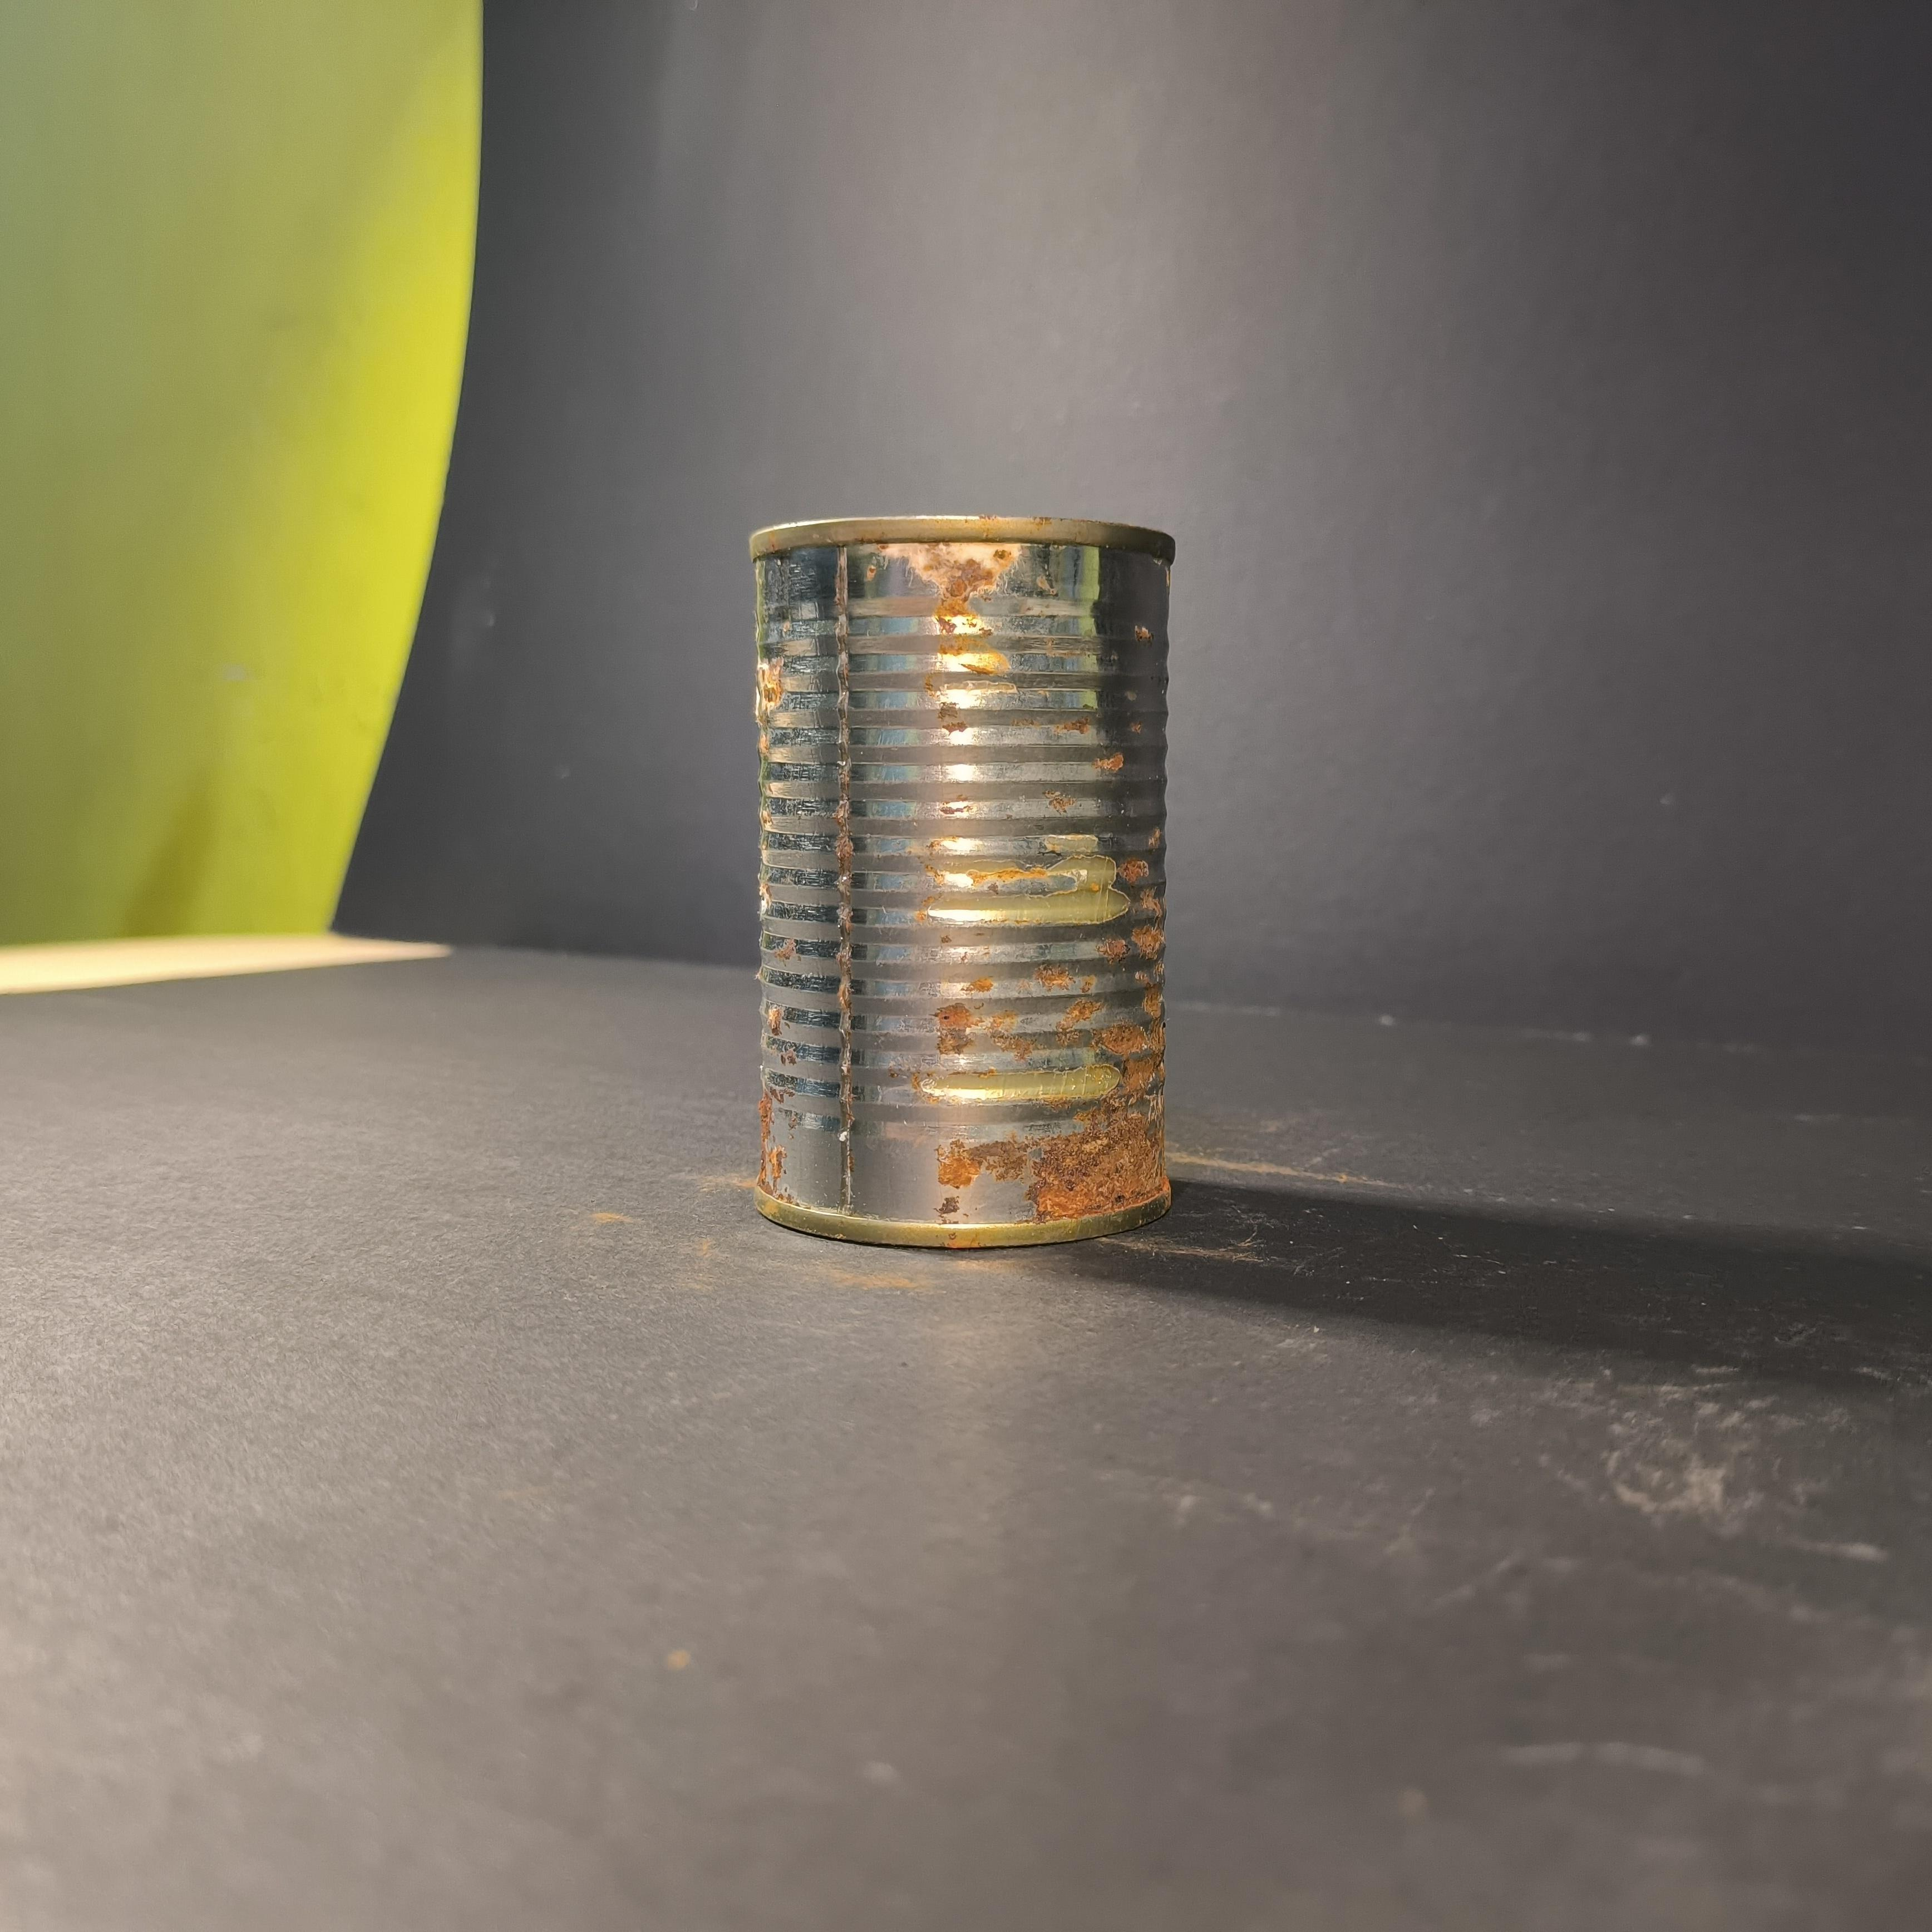Rusted: (743, 492, 1180, 1258)
